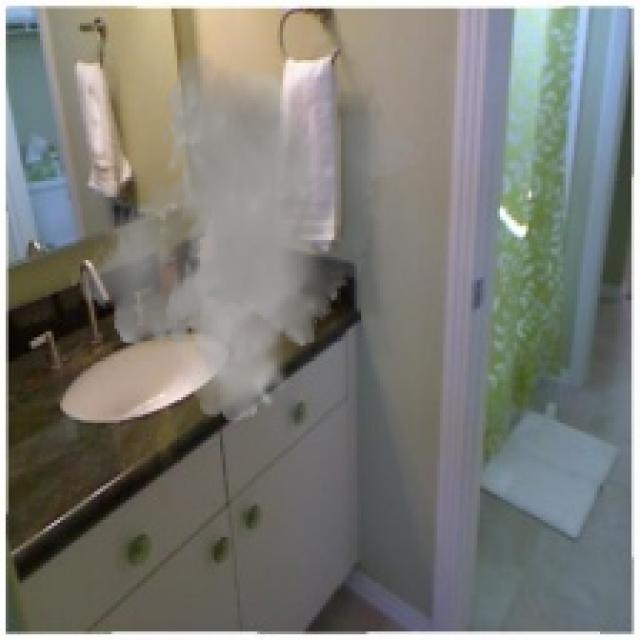smoke: (68, 51, 426, 423)
